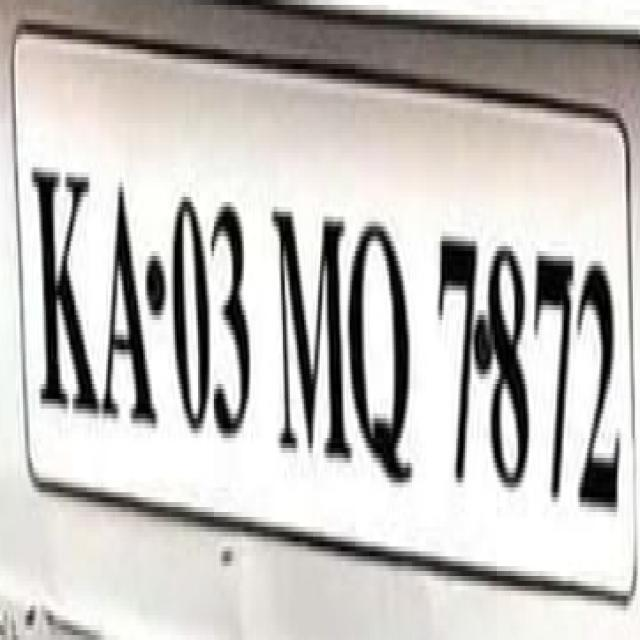0: (168, 181, 208, 440)
3: (210, 192, 252, 451)
7: (430, 213, 479, 500), (533, 243, 576, 520)
8: (483, 228, 531, 501)
A: (100, 172, 158, 432)
K: (29, 150, 99, 428)
M: (269, 198, 350, 470)
Q: (350, 206, 414, 489)
